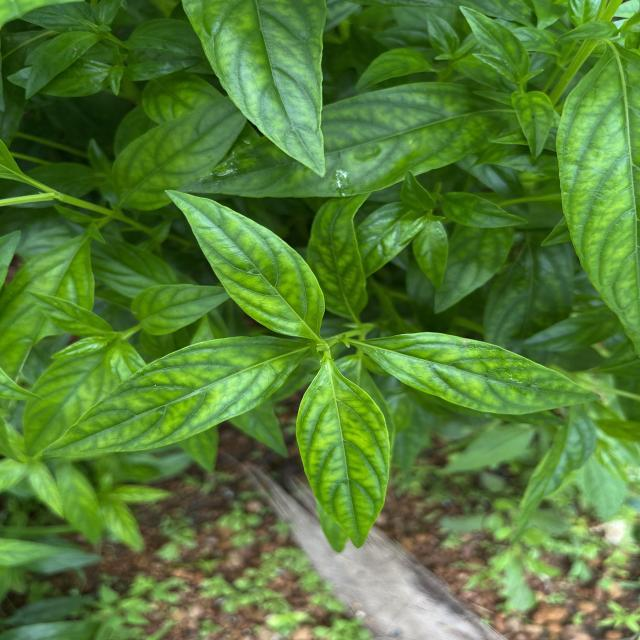Andrographis paniculata: (174, 79, 498, 200), (39, 334, 300, 461), (554, 40, 640, 354), (162, 186, 326, 336), (351, 329, 606, 416), (295, 360, 392, 550), (107, 99, 246, 212), (306, 190, 370, 322), (129, 281, 236, 337)
